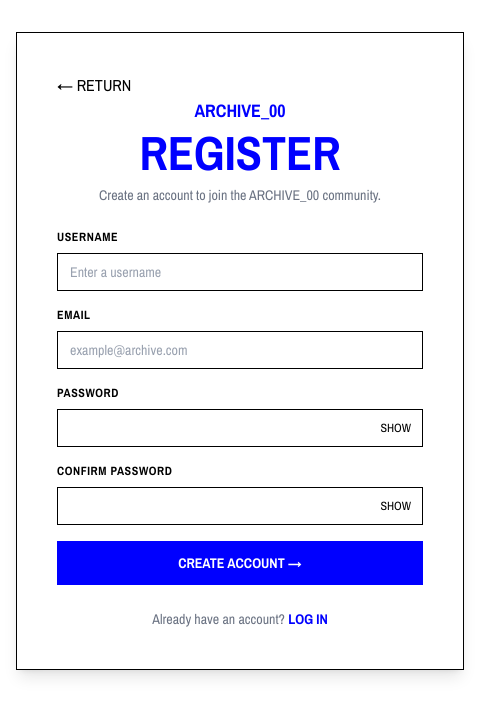
Test: RegisterView › shows error when passwords do not match
The image size is (481, 712).
In the field labelled "Username": (240, 272) 57,253 -> 423,291, type "testuser"
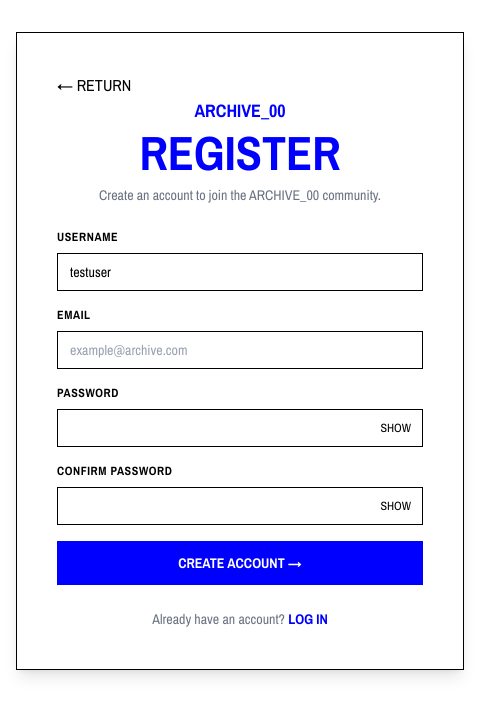
In the field labelled "Email": (240, 350) 57,331 -> 423,369, type "test@example.com"
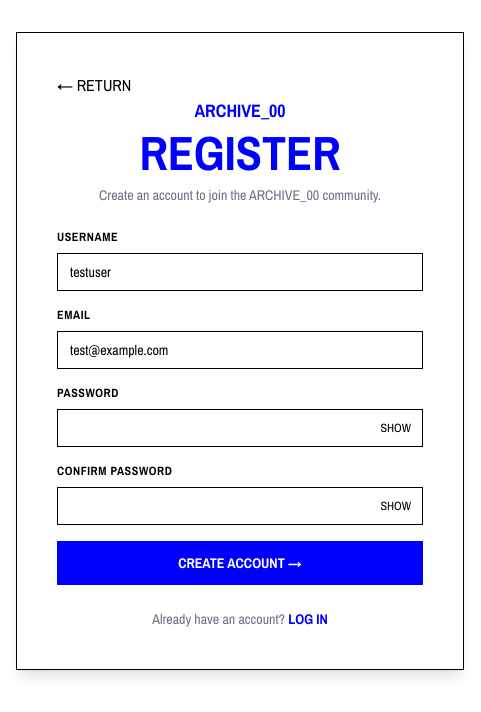
In the password field labelled "Password": (240, 428) 57,409 -> 423,447, type "password123"
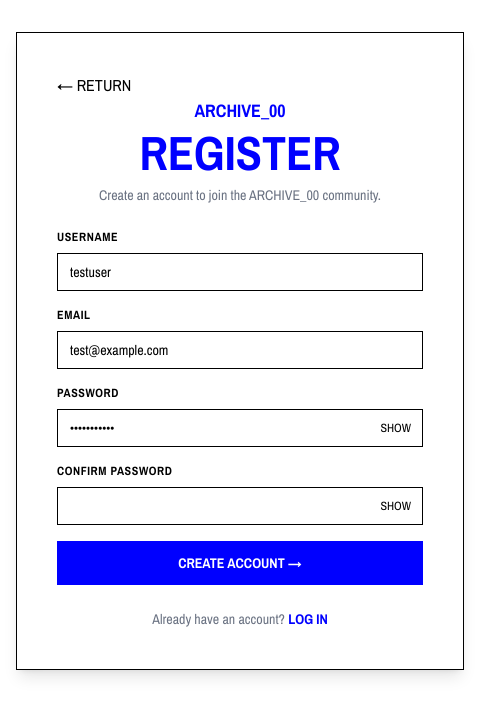
In the password field labelled "Confirm Password": (240, 506) 57,487 -> 423,525, type "different"
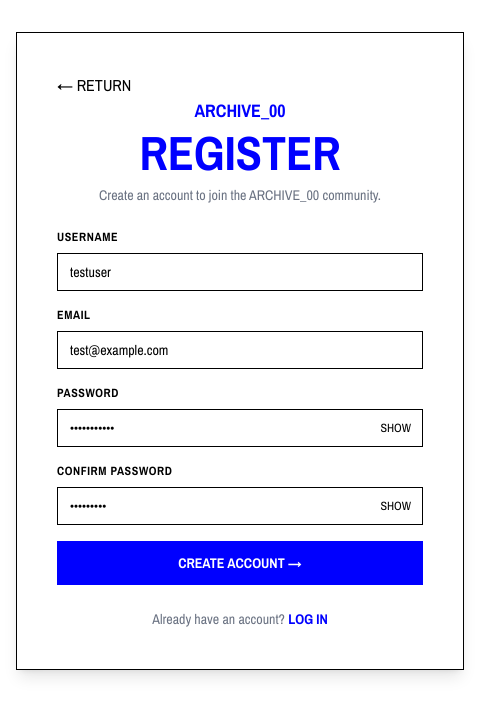
Submit the form, box 57,229 -> 423,585
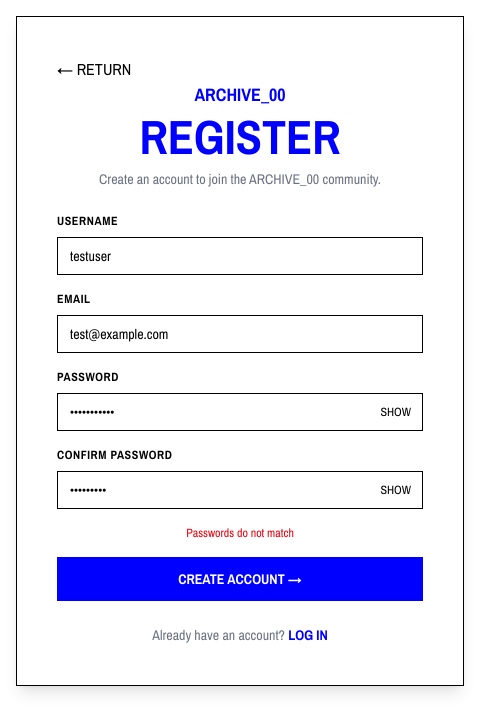
Expected: the text "Passwords do not match" is shown, 186,525 -> 294,541
